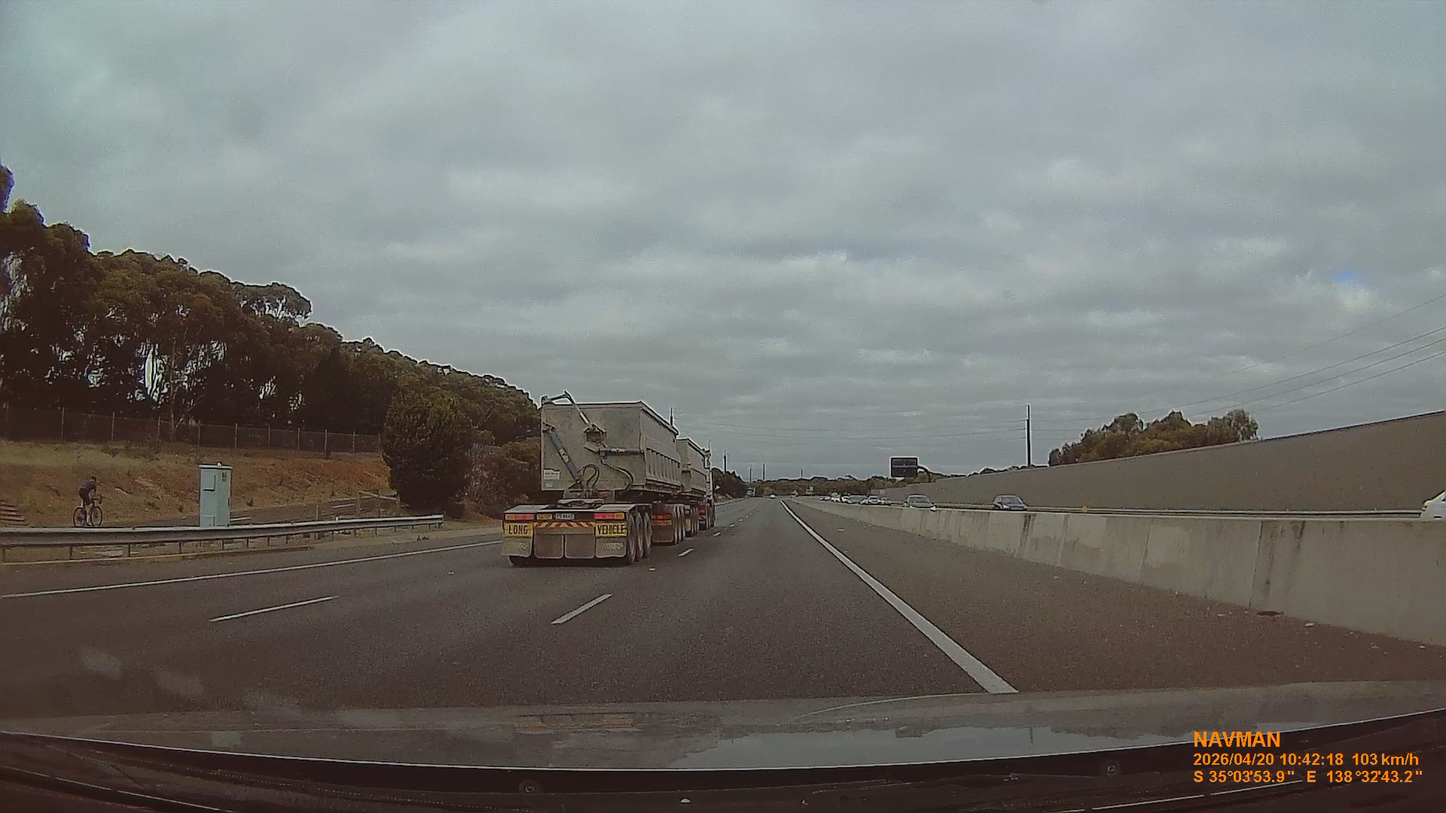fences: (0, 406, 380, 452), (0, 528, 189, 563)
road barriers: (815, 505, 1445, 668), (0, 515, 444, 565)
